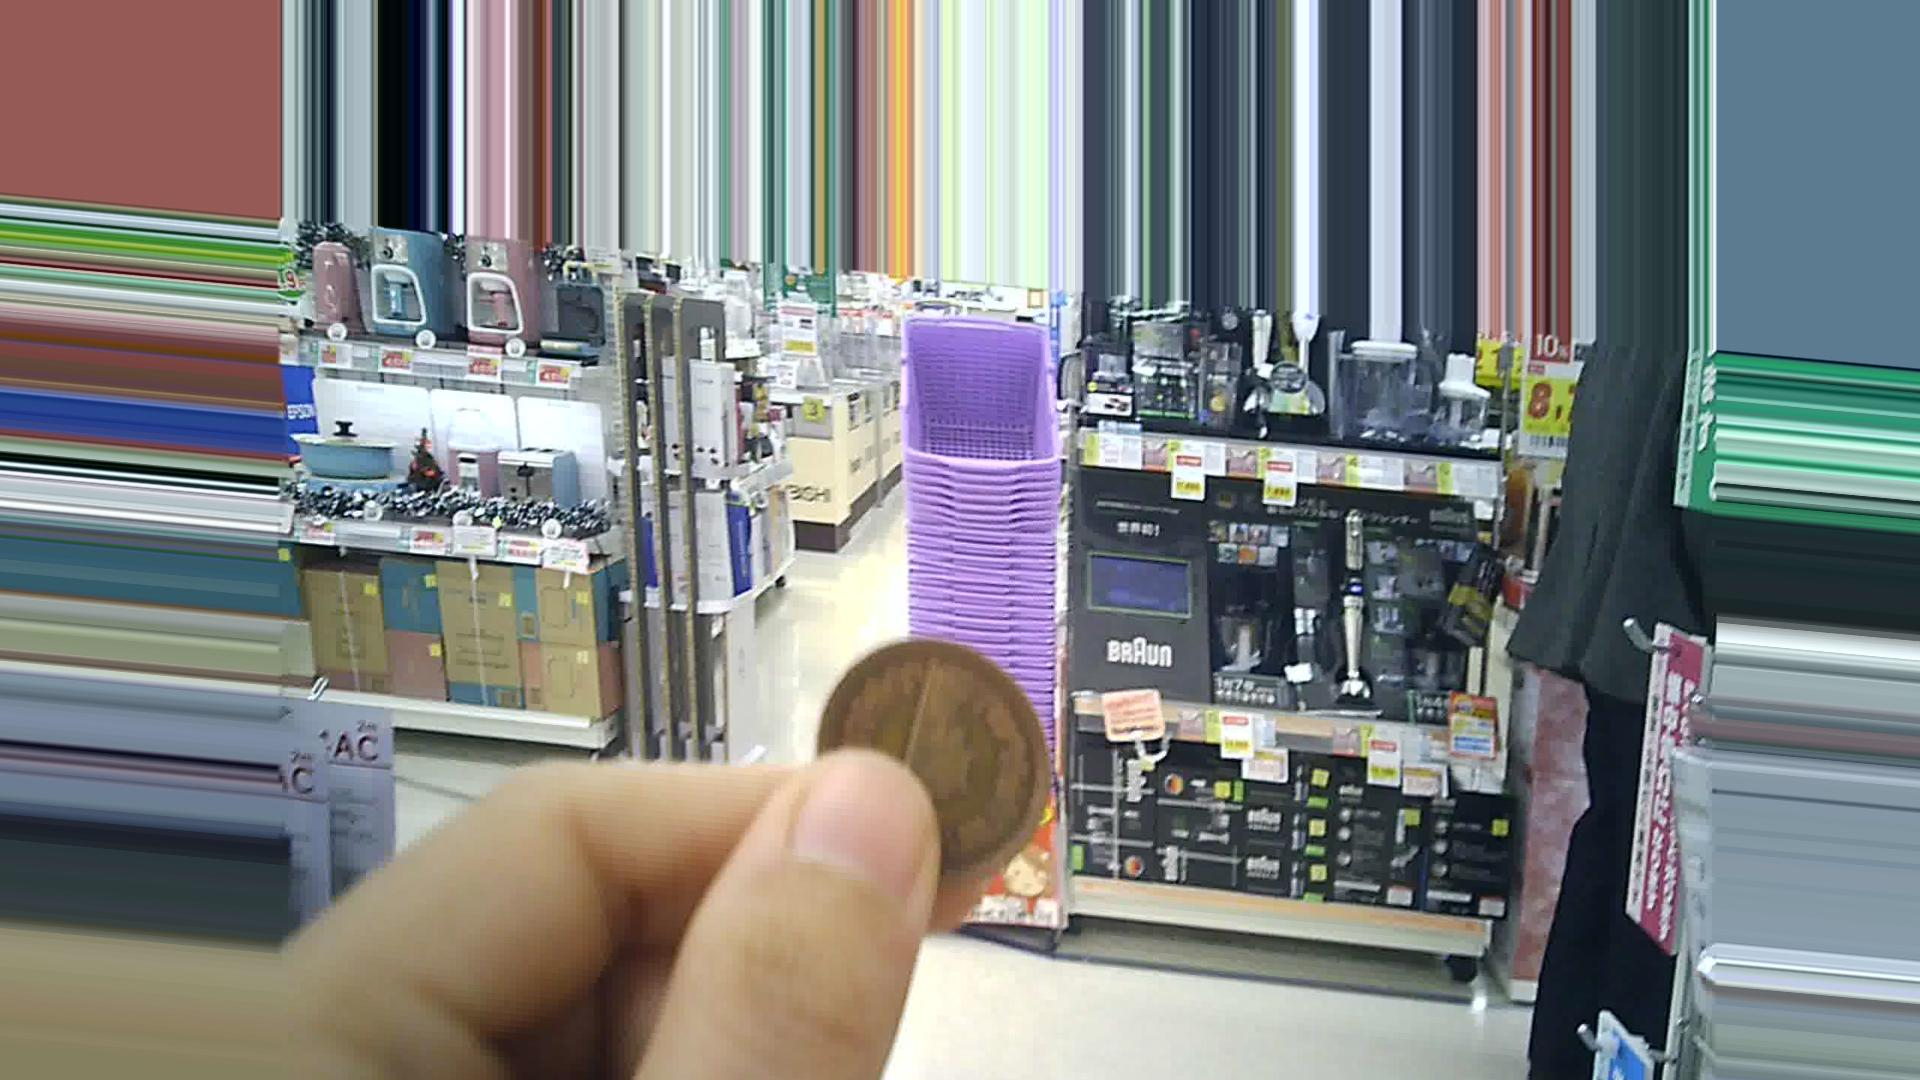10 Yen: (812, 644, 1059, 877)
